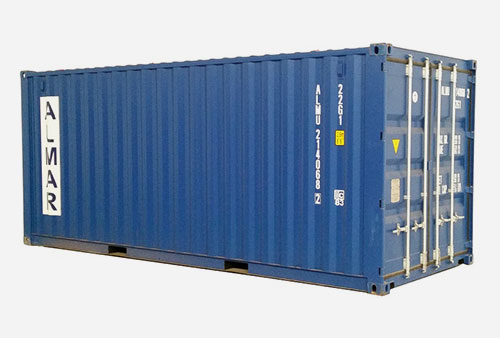container_door: (374, 36, 476, 292)
